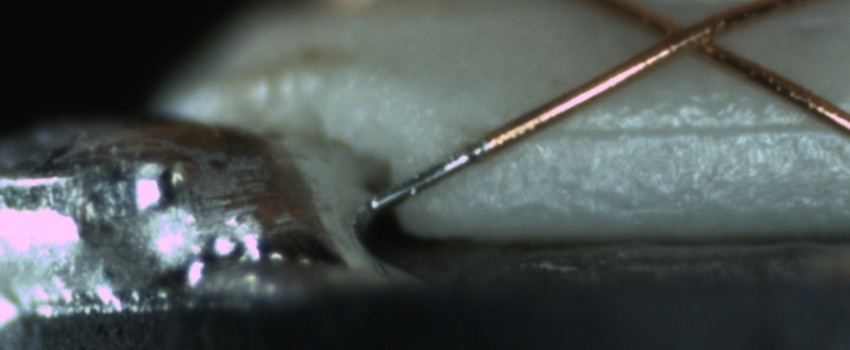CL: (632, 3, 737, 67)
DL: (539, 103, 849, 164)
TS: (369, 141, 491, 215)
